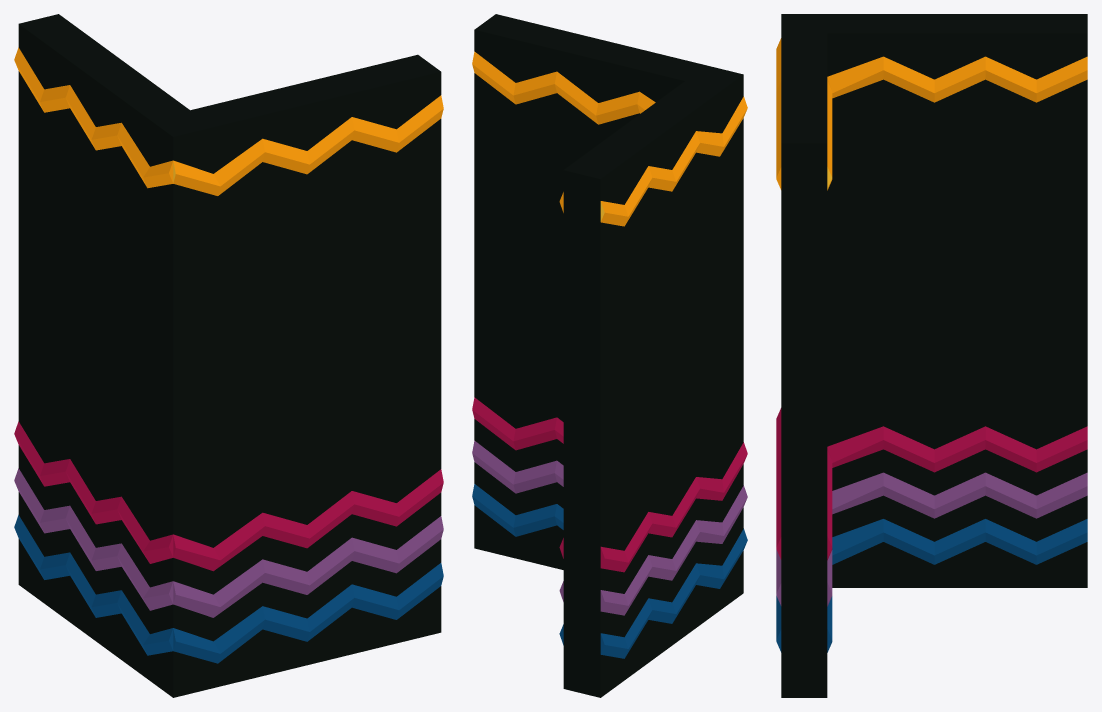
File: ZigzagCorner.glb
3 renders of one model, left to right at view 1: azimuth 30°, elevation 25°; view 2: azimuth 150°, elevation 25°; view 3: azimuth 270°, elevation 25°, orthographic. The views are drawn at different scales.
Parts seen in each view (by area): view 1: wall_zigzag_corner; view 2: wall_zigzag_corner; view 3: wall_zigzag_corner.
Part boxes in pixels (x1,y1,x2,y2): wall_zigzag_corner: (14,14,443,697); wall_zigzag_corner: (472,14,747,697); wall_zigzag_corner: (776,14,1087,697).
Size of what is drawn, in the model's own units: 2.03 by 4 by 2.03.
Materials: 1 (1 with a texture image).
